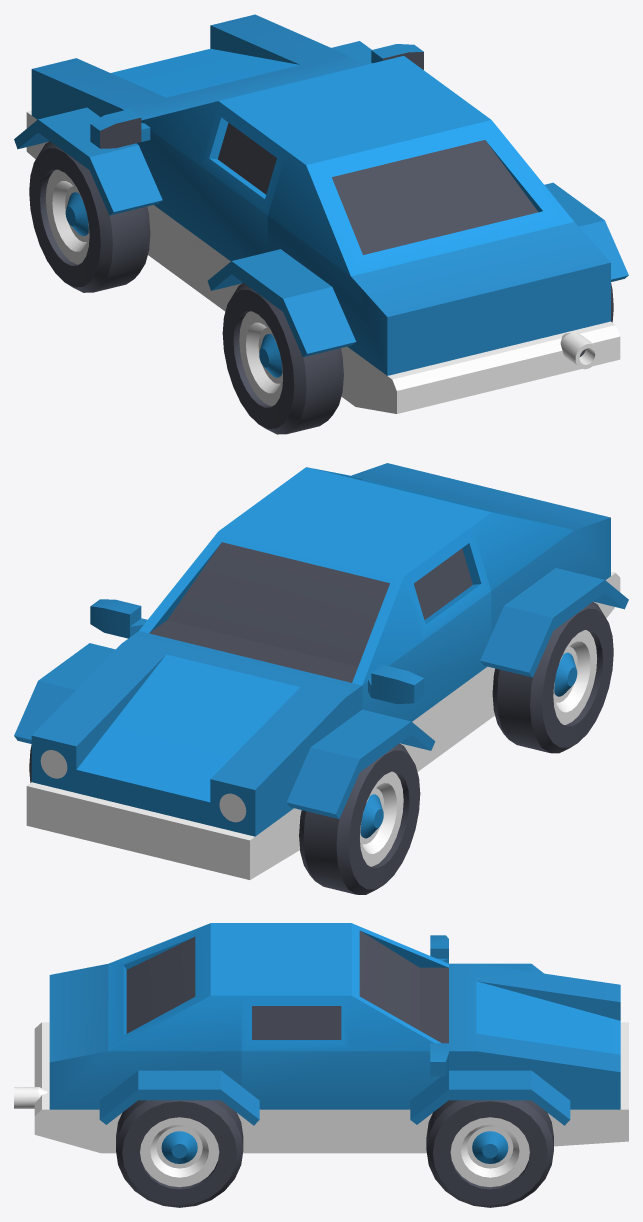
Rendered from Traffic Old Blue.fbx.
The picture shows the model from 3 angles, top to bottom: view 1: azimuth 30°, elevation 25°; view 2: azimuth 150°, elevation 25°; view 3: azimuth 270°, elevation 25°; orthographic projection. The views are drawn at different scales.
Parts seen in each view (by area): view 1: trunk_square_9, windshield_sports_3, hood_square_5, wheel_colored_29, wheel_colored_28, detail_fenderSquare_33, detail_fenderSquare_30, detail_fenderSquare_37, detail_mirror_20, detail_exhaust_38, detail_mirror_21; view 2: hood_square_5, windshield_sports_3, trunk_square_9, wheel_colored_29, wheel_colored_28, detail_fenderSquare_33, detail_fenderSquare_30, detail_fenderSquare_35, detail_mirror_20, detail_mirror_21; view 3: windshield_sports_3, trunk_square_9, hood_square_5, wheel_colored_34, wheel_colored_36, detail_fenderSquare_37, detail_fenderSquare_35, detail_mirror_21, detail_exhaust_38, detail_mirror_20.
Part boxes in pixels (box(x1,y1,x2,y2)): trunk_square_9: box(267, 106, 620, 413); windshield_sports_3: box(138, 56, 471, 311); hood_square_5: box(26, 14, 360, 159); wheel_colored_29: box(222, 283, 343, 434); wheel_colored_28: box(29, 141, 150, 292); detail_fenderSquare_33: box(207, 249, 356, 357); detail_fenderSquare_30: box(14, 107, 162, 215); detail_fenderSquare_37: box(544, 182, 628, 281); detail_mirror_20: box(90, 109, 150, 148); detail_exhaust_38: box(560, 332, 599, 369); detail_mirror_21: box(371, 44, 423, 69); hood_square_5: box(26, 631, 362, 879); windshield_sports_3: box(139, 481, 491, 771); trunk_square_9: box(287, 463, 620, 717); wheel_colored_29: box(492, 602, 613, 753); wheel_colored_28: box(299, 743, 420, 894); detail_fenderSquare_33: box(480, 568, 628, 677); detail_fenderSquare_30: box(286, 709, 435, 818); detail_fenderSquare_35: box(14, 643, 115, 743); detail_mirror_20: box(368, 665, 423, 704); detail_mirror_21: box(90, 599, 147, 638); windshield_sports_3: box(241, 923, 448, 1153); trunk_square_9: box(34, 923, 241, 1153); hood_square_5: box(449, 963, 628, 1146); wheel_colored_34: box(426, 1100, 553, 1207); wheel_colored_36: box(116, 1100, 243, 1207); detail_fenderSquare_37: box(99, 1070, 259, 1125); detail_fenderSquare_35: box(410, 1070, 570, 1125); detail_mirror_21: box(430, 1043, 448, 1076); detail_exhaust_38: box(14, 1087, 47, 1108); detail_mirror_20: box(430, 935, 448, 963).
Bounding box in the file's own units: 14.5 × 10.08 × 29.7.
